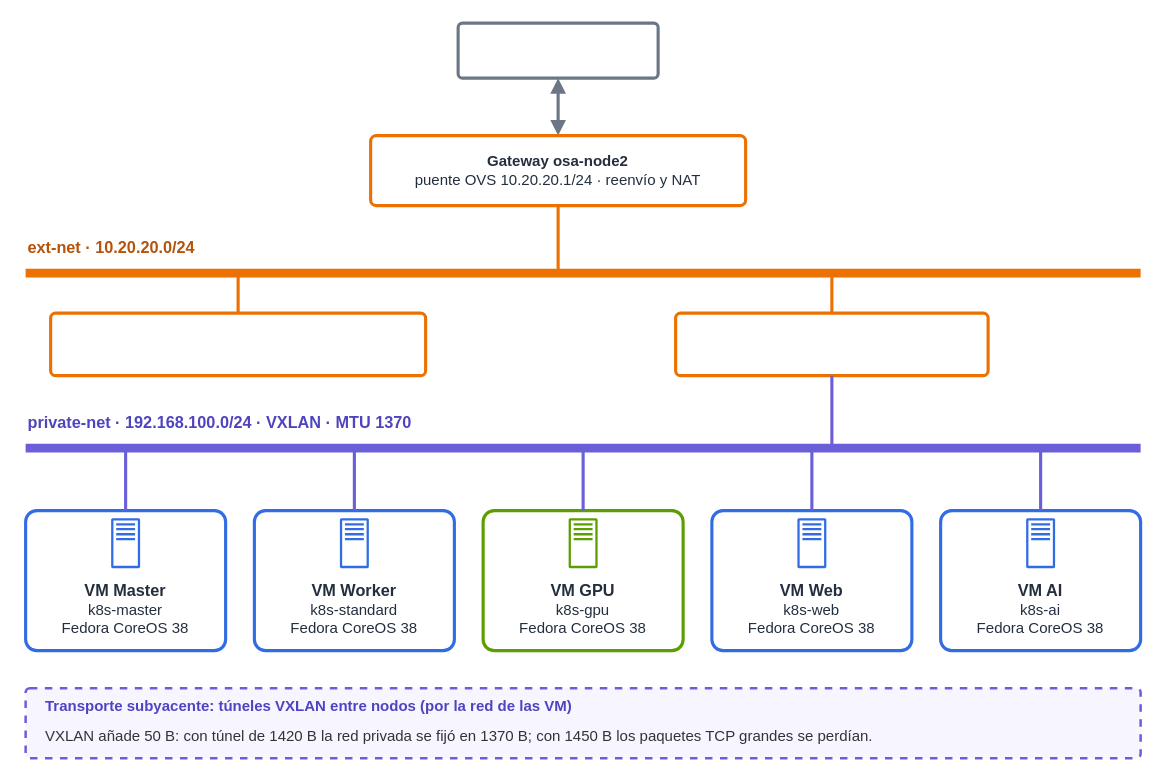
The diagram is 1168 pixels wide and 781 high, and some of its shapes have lost their labels. The box of each missing label's shape, as (x1, y1, x2, y2) in pixels:
Internet: (456, 21, 659, 79)
IP flotantes de las VM 10.20.20.107, .165, .184, .135, .176: (48, 311, 427, 377)
Router virtual une ext-net y private-net: (674, 311, 989, 377)
